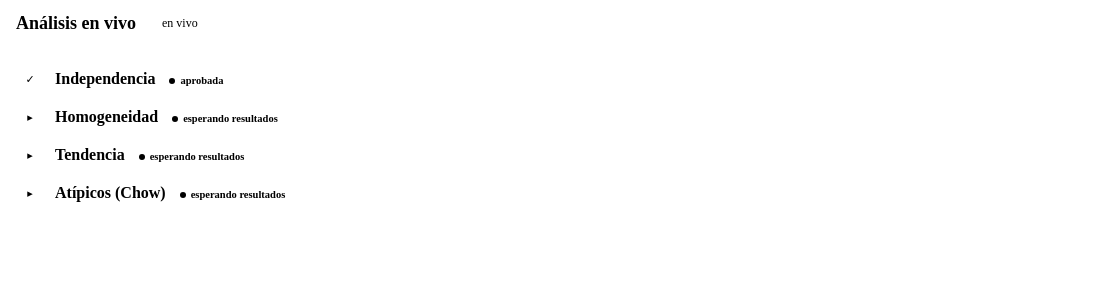
Test: StreamPage › expands a completed group's detail table on click
The width and height of the screenshot is (1115, 308).
Click the text "Independencia" at (105, 78), box [55, 70, 156, 87]
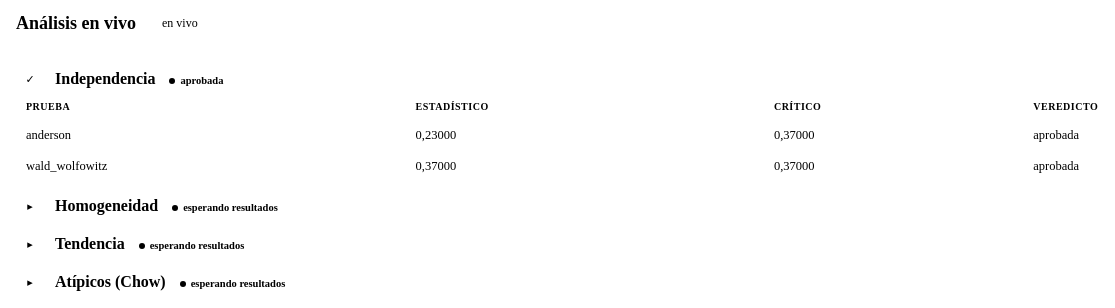
Expected: the text "anderson" is shown, [16, 120, 406, 151]
Expected: the text "wald_wolfowitz" is shown, [16, 151, 406, 182]
